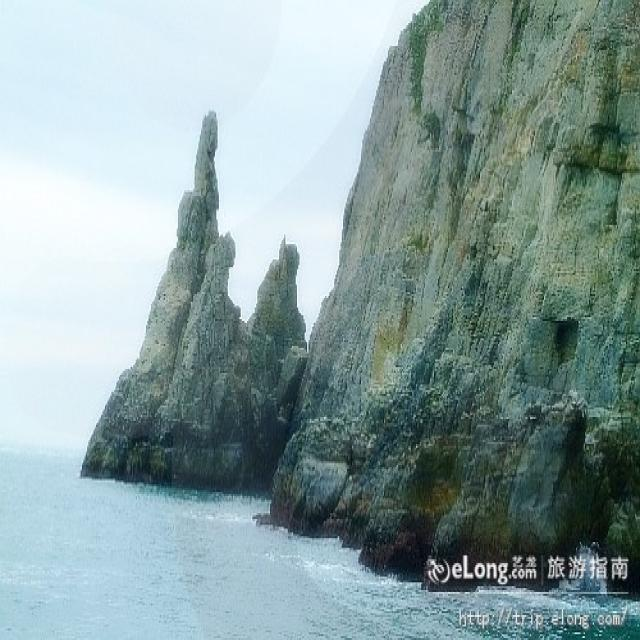reef: (77, 98, 318, 497)
